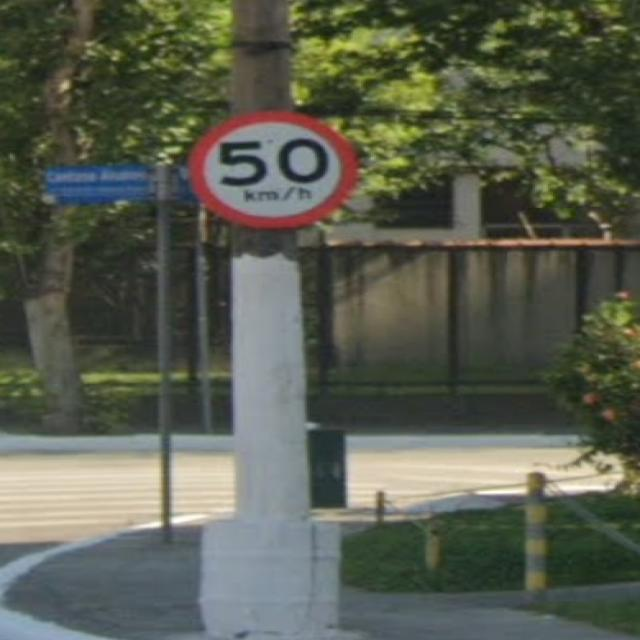speed limit: (171, 96, 371, 242)
